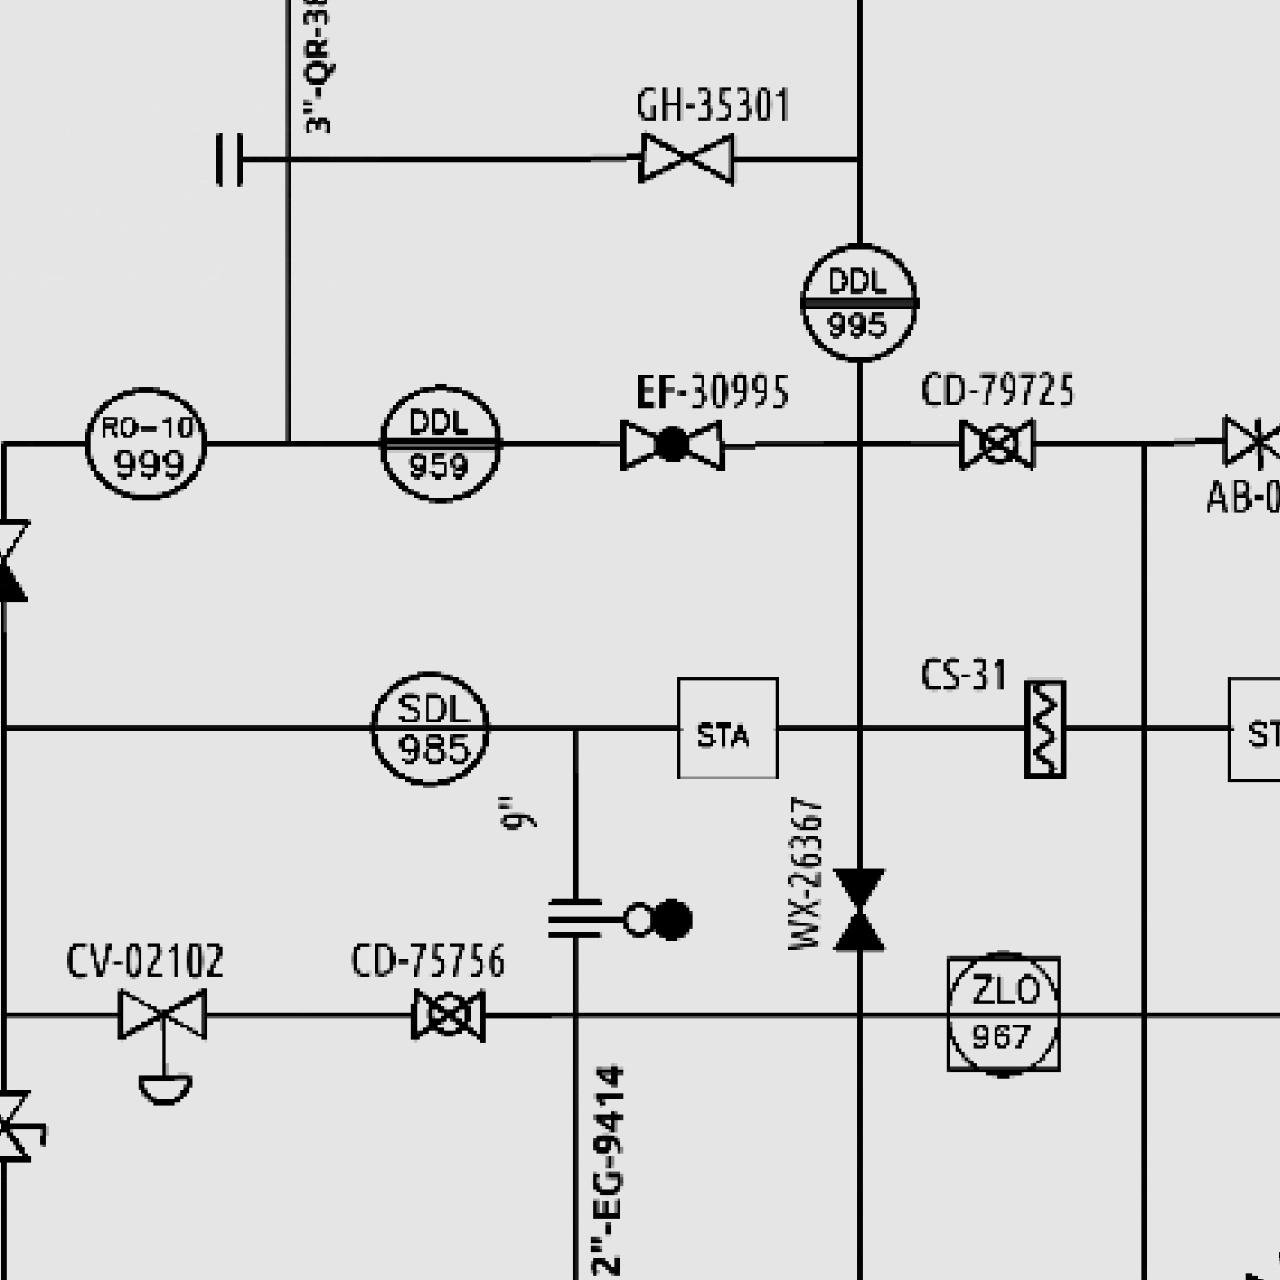Control-Panel: (374, 377, 505, 508), (80, 377, 210, 508), (795, 238, 922, 365)
